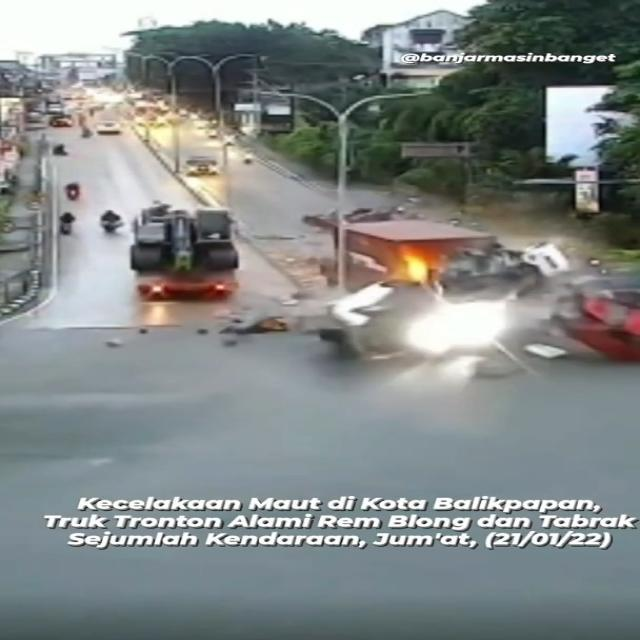accident: (308, 213, 640, 366)
non_accident: (130, 183, 235, 310), (95, 187, 132, 245), (184, 145, 219, 185), (50, 177, 88, 210), (57, 203, 80, 242)
